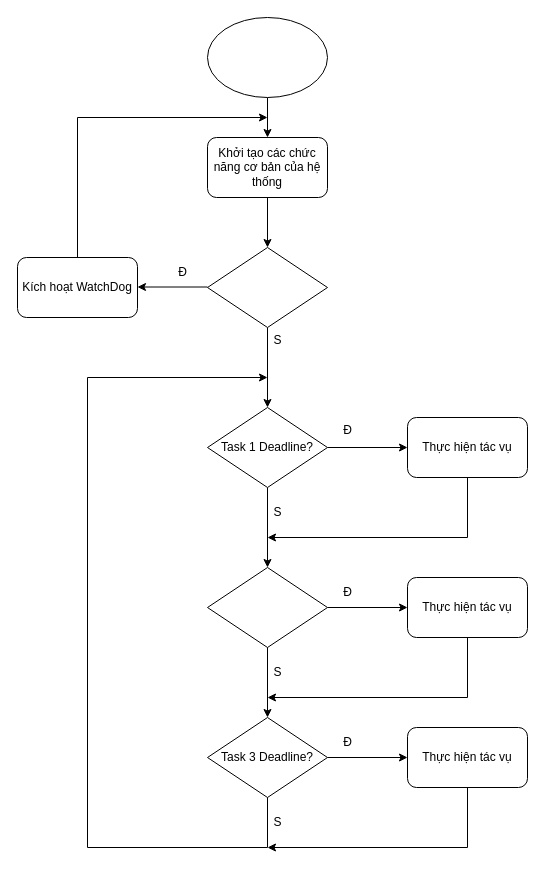
Image size: 545x873. Some labels were removed from this diagram. The centre of each missing label's shape, as x and y in pixels:
Bắt đầu: (267,57)
Hệ thống bị treo?: (267,287)
Task 2 Deadline?: (267,607)
